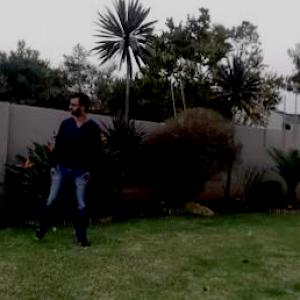follow: (52, 88, 98, 246)
